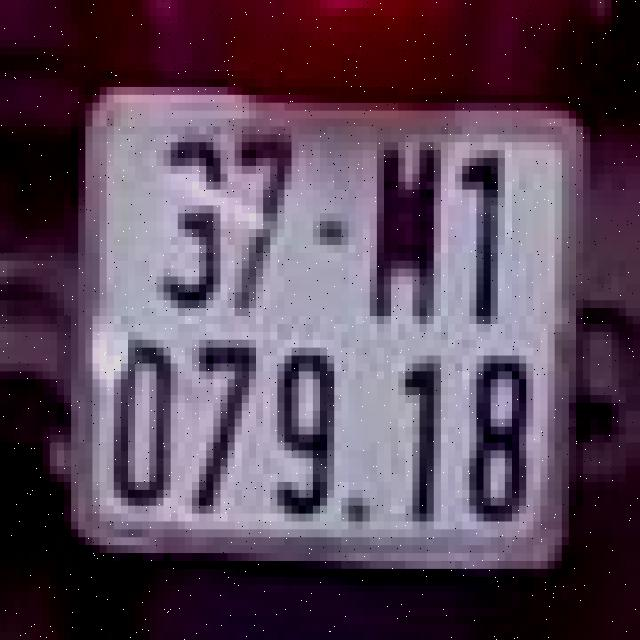0: (103, 332, 181, 513)
1: (394, 348, 452, 529), (458, 146, 508, 328)
3: (153, 134, 224, 316)
7: (185, 336, 263, 517), (231, 130, 302, 320)
8: (459, 348, 537, 529)
9: (274, 340, 345, 521)
M: (366, 130, 444, 328)
